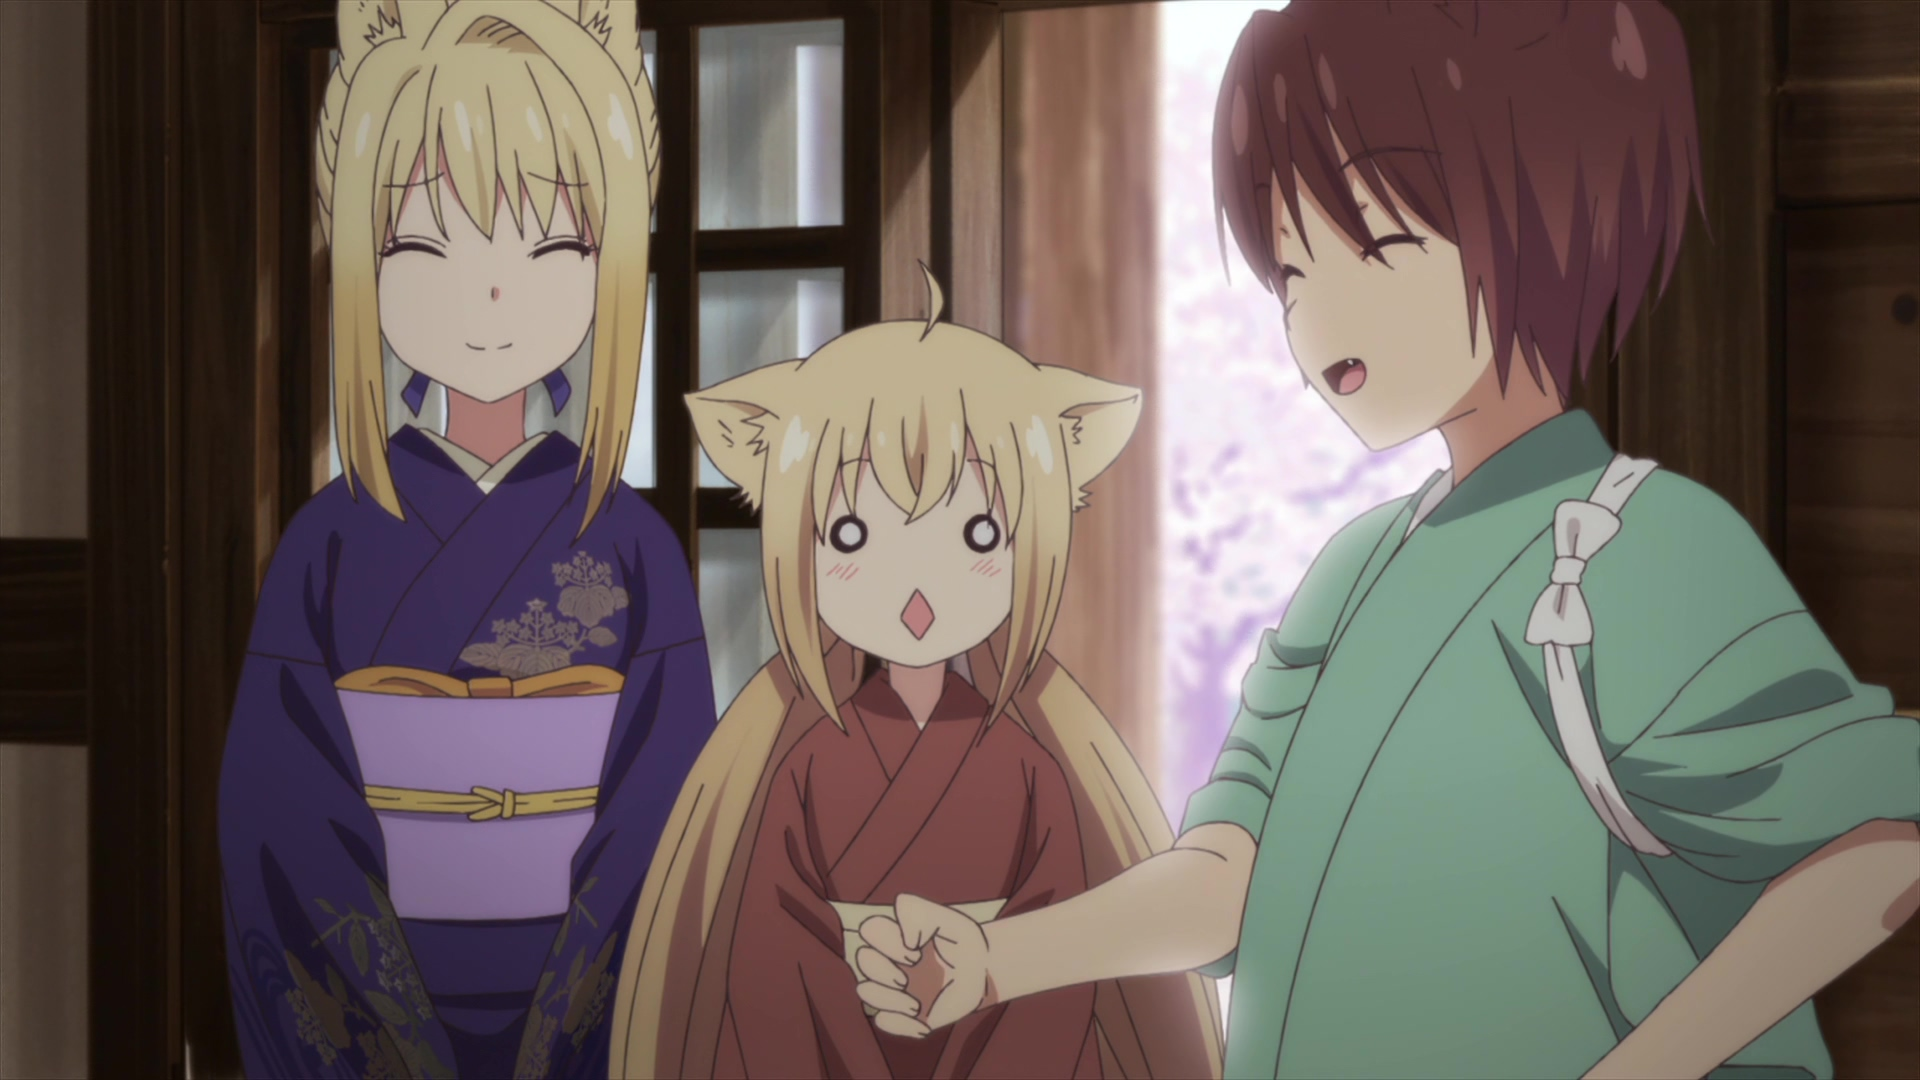枣: (855, 1, 1920, 1080)
柚: (608, 260, 1228, 1080)
桐: (218, 1, 717, 1080)
